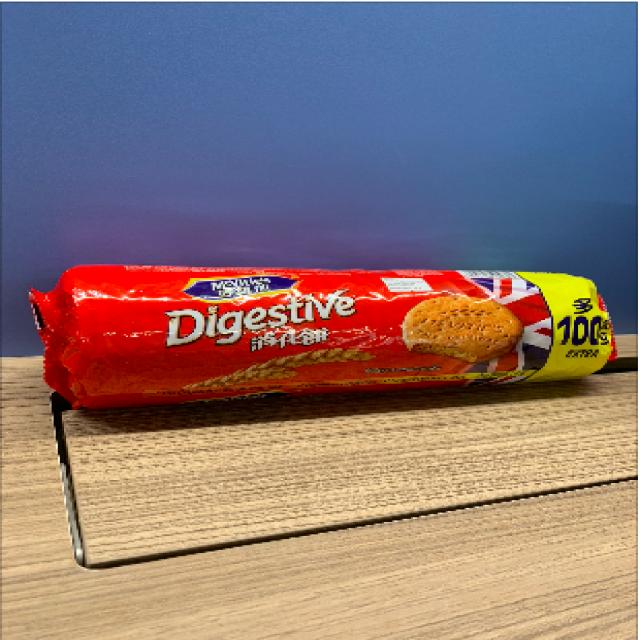object_name: (57, 277, 610, 382)
